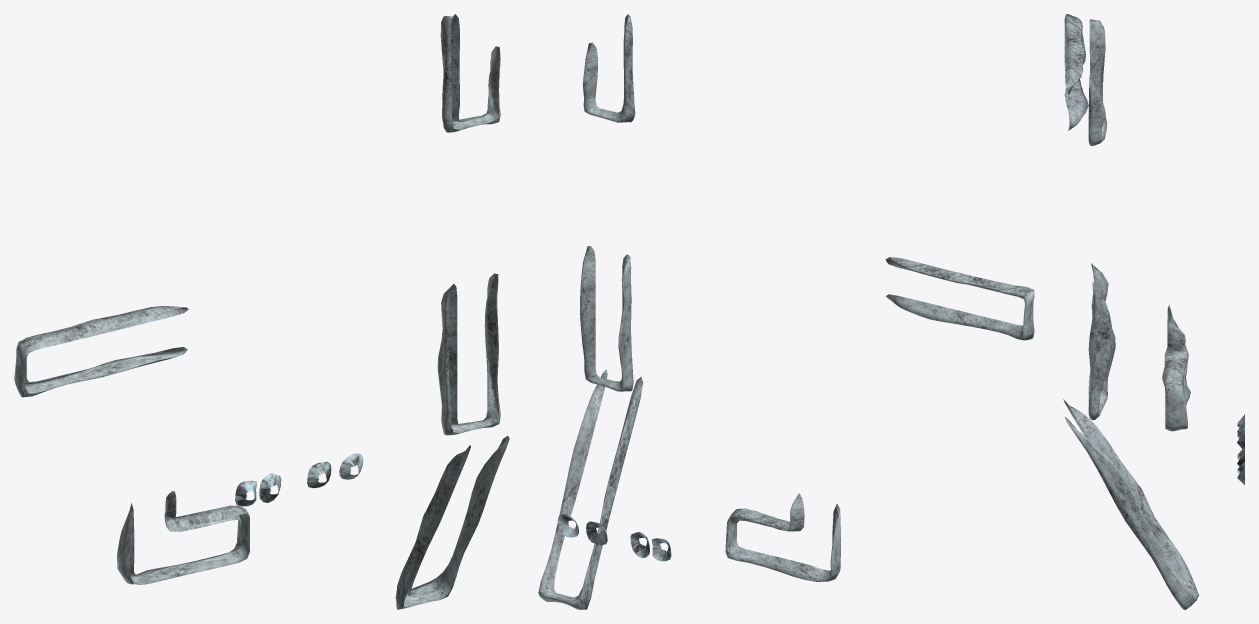
Rendered from extras.fbx.
The picture shows the model from 3 angles, left to right: view 1: azimuth 30°, elevation 25°; view 2: azimuth 150°, elevation 25°; view 3: azimuth 270°, elevation 25°; orthographic projection. The views are drawn at different scales.
Parts seen in each view (by area): view 1: icedecal_002; view 2: icedecal_002; view 3: icedecal_002.
Boxes of the visible parts, bbox=[...] form: icedecal_002: bbox=[14, 14, 509, 609]; icedecal_002: bbox=[538, 14, 1034, 609]; icedecal_002: bbox=[1063, 14, 1244, 609].
Bounding box in the file's own units: 61.51 × 75.49 × 21.7.
2 materials, 2 textured.
